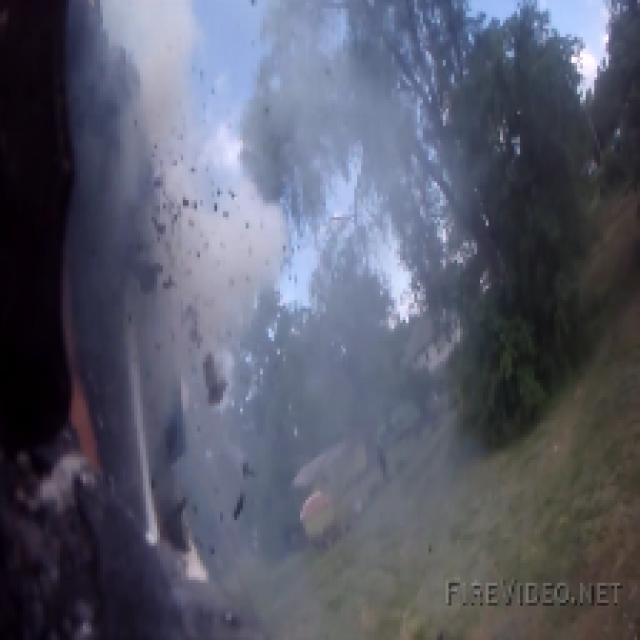Smoke: (52, 0, 454, 640)
